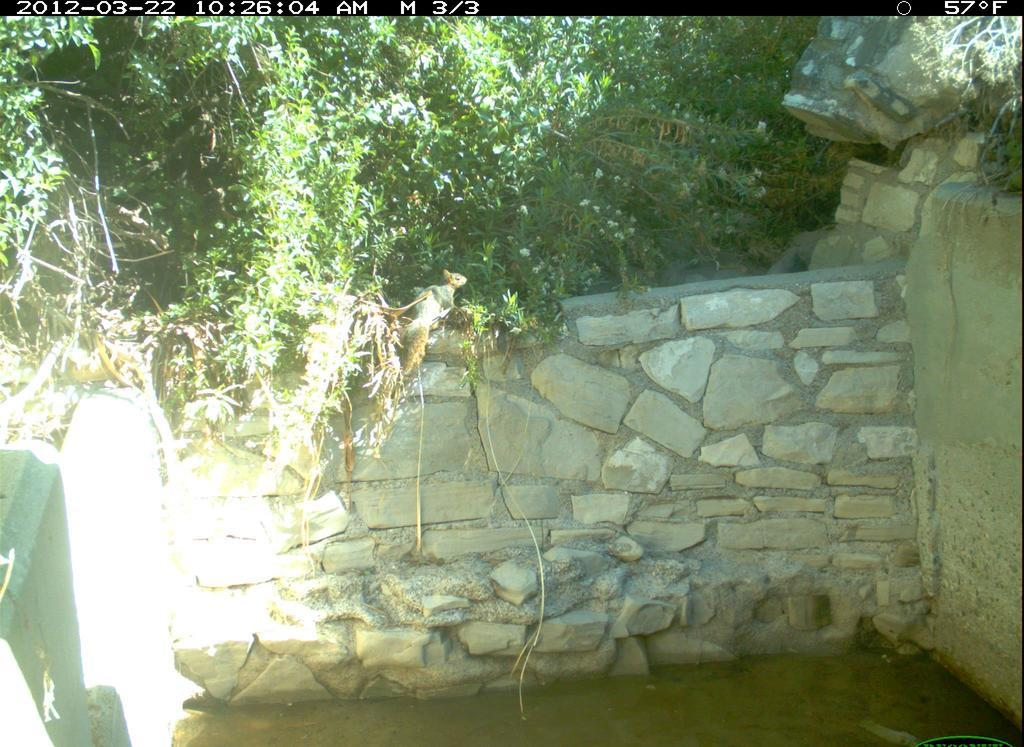squirrel: (397, 266, 470, 377)
